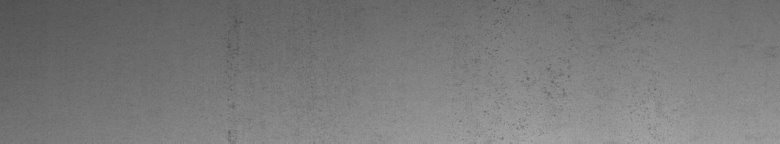ib: (475, 7, 571, 129)
